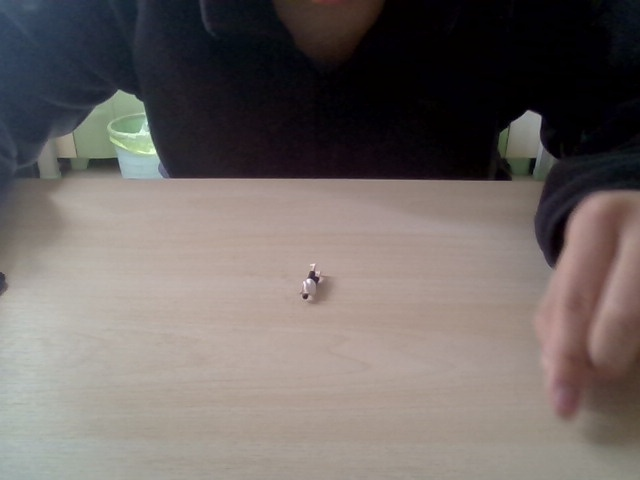fall: (296, 259, 328, 308)
